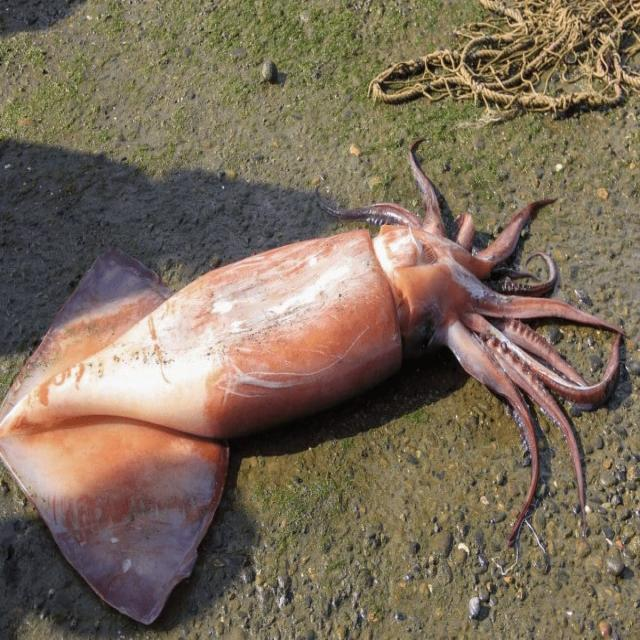SQUID: (1, 124, 640, 619)
